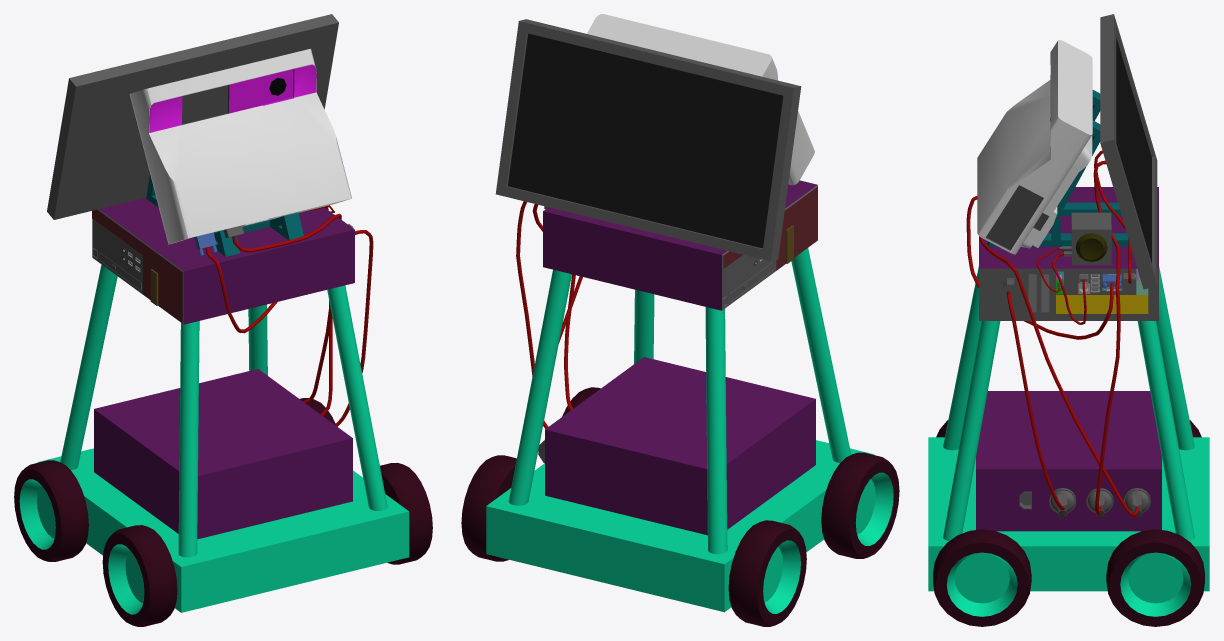
File: robotProjektor.fbx
3 renders of one model, left to right at view 1: azimuth 30°, elevation 25°; view 2: azimuth 150°, elevation 25°; view 3: azimuth 270°, elevation 25°, orthographic. The views are drawn at different scales.
Visible parts, largest first — view 1: PLUTO; view 2: PLUTO; view 3: PLUTO.
Boxes of the visible parts, bbox=[...] form: PLUTO: bbox=[14, 14, 432, 626]; PLUTO: bbox=[461, 14, 899, 626]; PLUTO: bbox=[928, 14, 1209, 626].
Bounding box in the file's own units: 51.6 × 86.34 × 45.36.
